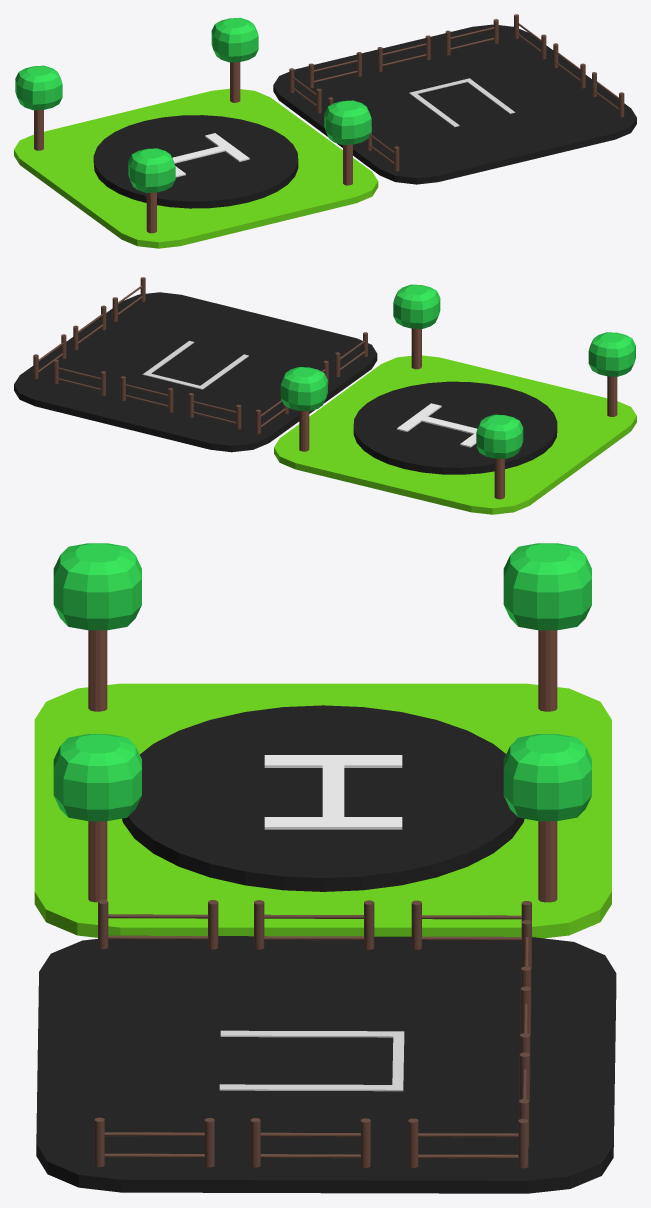
File: heliport.glb
3 renders of one model, top to bottom at view 1: azimuth 30°, elevation 25°; view 2: azimuth 150°, elevation 25°; view 3: azimuth 270°, elevation 25°, orthographic. The views are drawn at different scales.
Parts seen in each view (by area): view 1: Cube.001, Cube, Circle, fence, tree, tree.003, tree.001, tree.002, Cube.003; view 2: Cube.001, Cube, Circle, fence, tree, tree.001, tree.002, tree.003, Cube.003; view 3: Cube.001, Cube, Circle, fence, tree.003, tree, tree.002, tree.001, Cube.003, Cube.002.
Boxes of the visible parts, x1,y1,x2,y2 form: Cube.001: (273, 24, 636, 184); Cube: (14, 88, 378, 248); Circle: (93, 115, 298, 208); fence: (289, 14, 624, 171); tree: (128, 148, 175, 233); tree.003: (211, 17, 258, 102); tree.001: (324, 100, 371, 185); tree.002: (15, 65, 62, 150); Cube.003: (409, 79, 471, 127); Cube.001: (14, 292, 377, 452); Cube: (274, 355, 636, 514); Circle: (353, 381, 557, 474); fence: (33, 277, 367, 434); tree: (588, 332, 635, 416); tree.001: (393, 284, 440, 369); tree.002: (476, 414, 523, 499); tree.003: (280, 367, 327, 451); Cube.003: (142, 354, 248, 389); Cube.001: (36, 936, 616, 1193); Cube: (34, 683, 611, 938); Circle: (122, 705, 524, 891); fence: (94, 899, 531, 1168); tree.003: (503, 734, 591, 902); tree: (53, 543, 141, 711); tree.002: (503, 543, 591, 711); tree.001: (53, 734, 141, 902); Cube.003: (220, 1030, 404, 1091); Cube.002: (219, 1084, 403, 1091).
Bounding box in the file's own units: 37.54 × 5.88 × 18.56.
